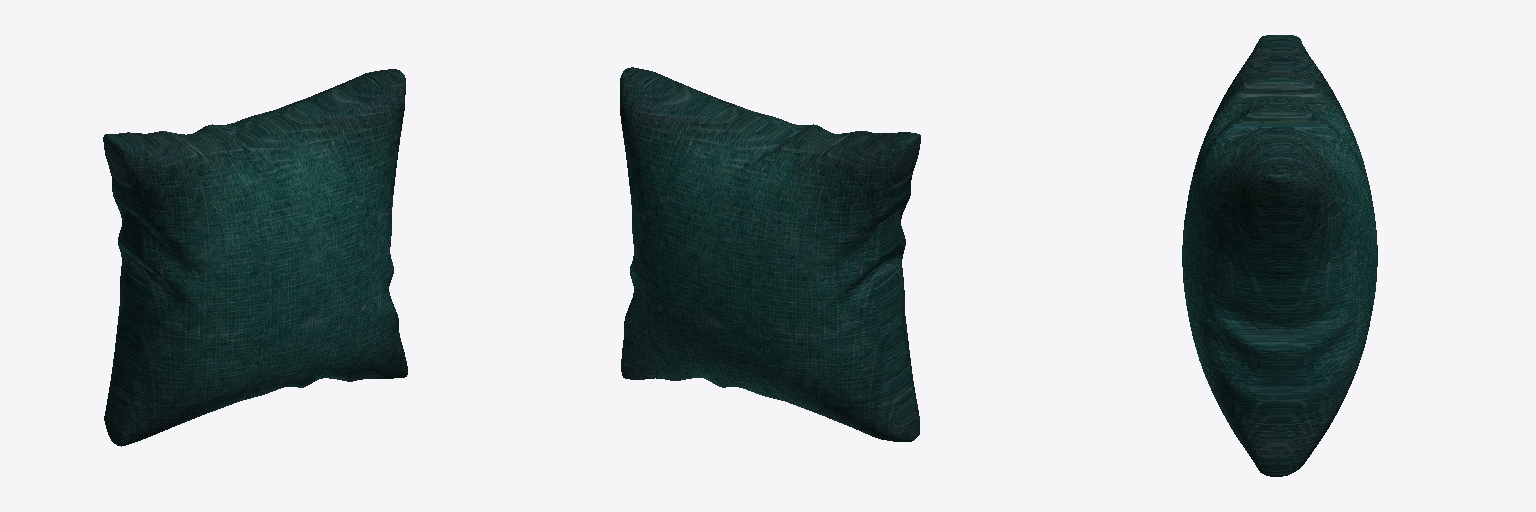
3 views of the same model, side by side, from view 1: azimuth 30°, elevation 25°; view 2: azimuth 150°, elevation 25°; view 3: azimuth 270°, elevation 25° (orthographic).
Visible parts, largest first — view 1: black; view 2: black; view 3: black.
Boxes of the visible parts, box(x1,y1,x2,y2) form: black: box(103, 69, 407, 446); black: box(620, 67, 920, 441); black: box(1182, 35, 1377, 476).
Size of the model in its own units: 0.3046 by 0.3036 by 0.1774.
1 materials, 1 textured.